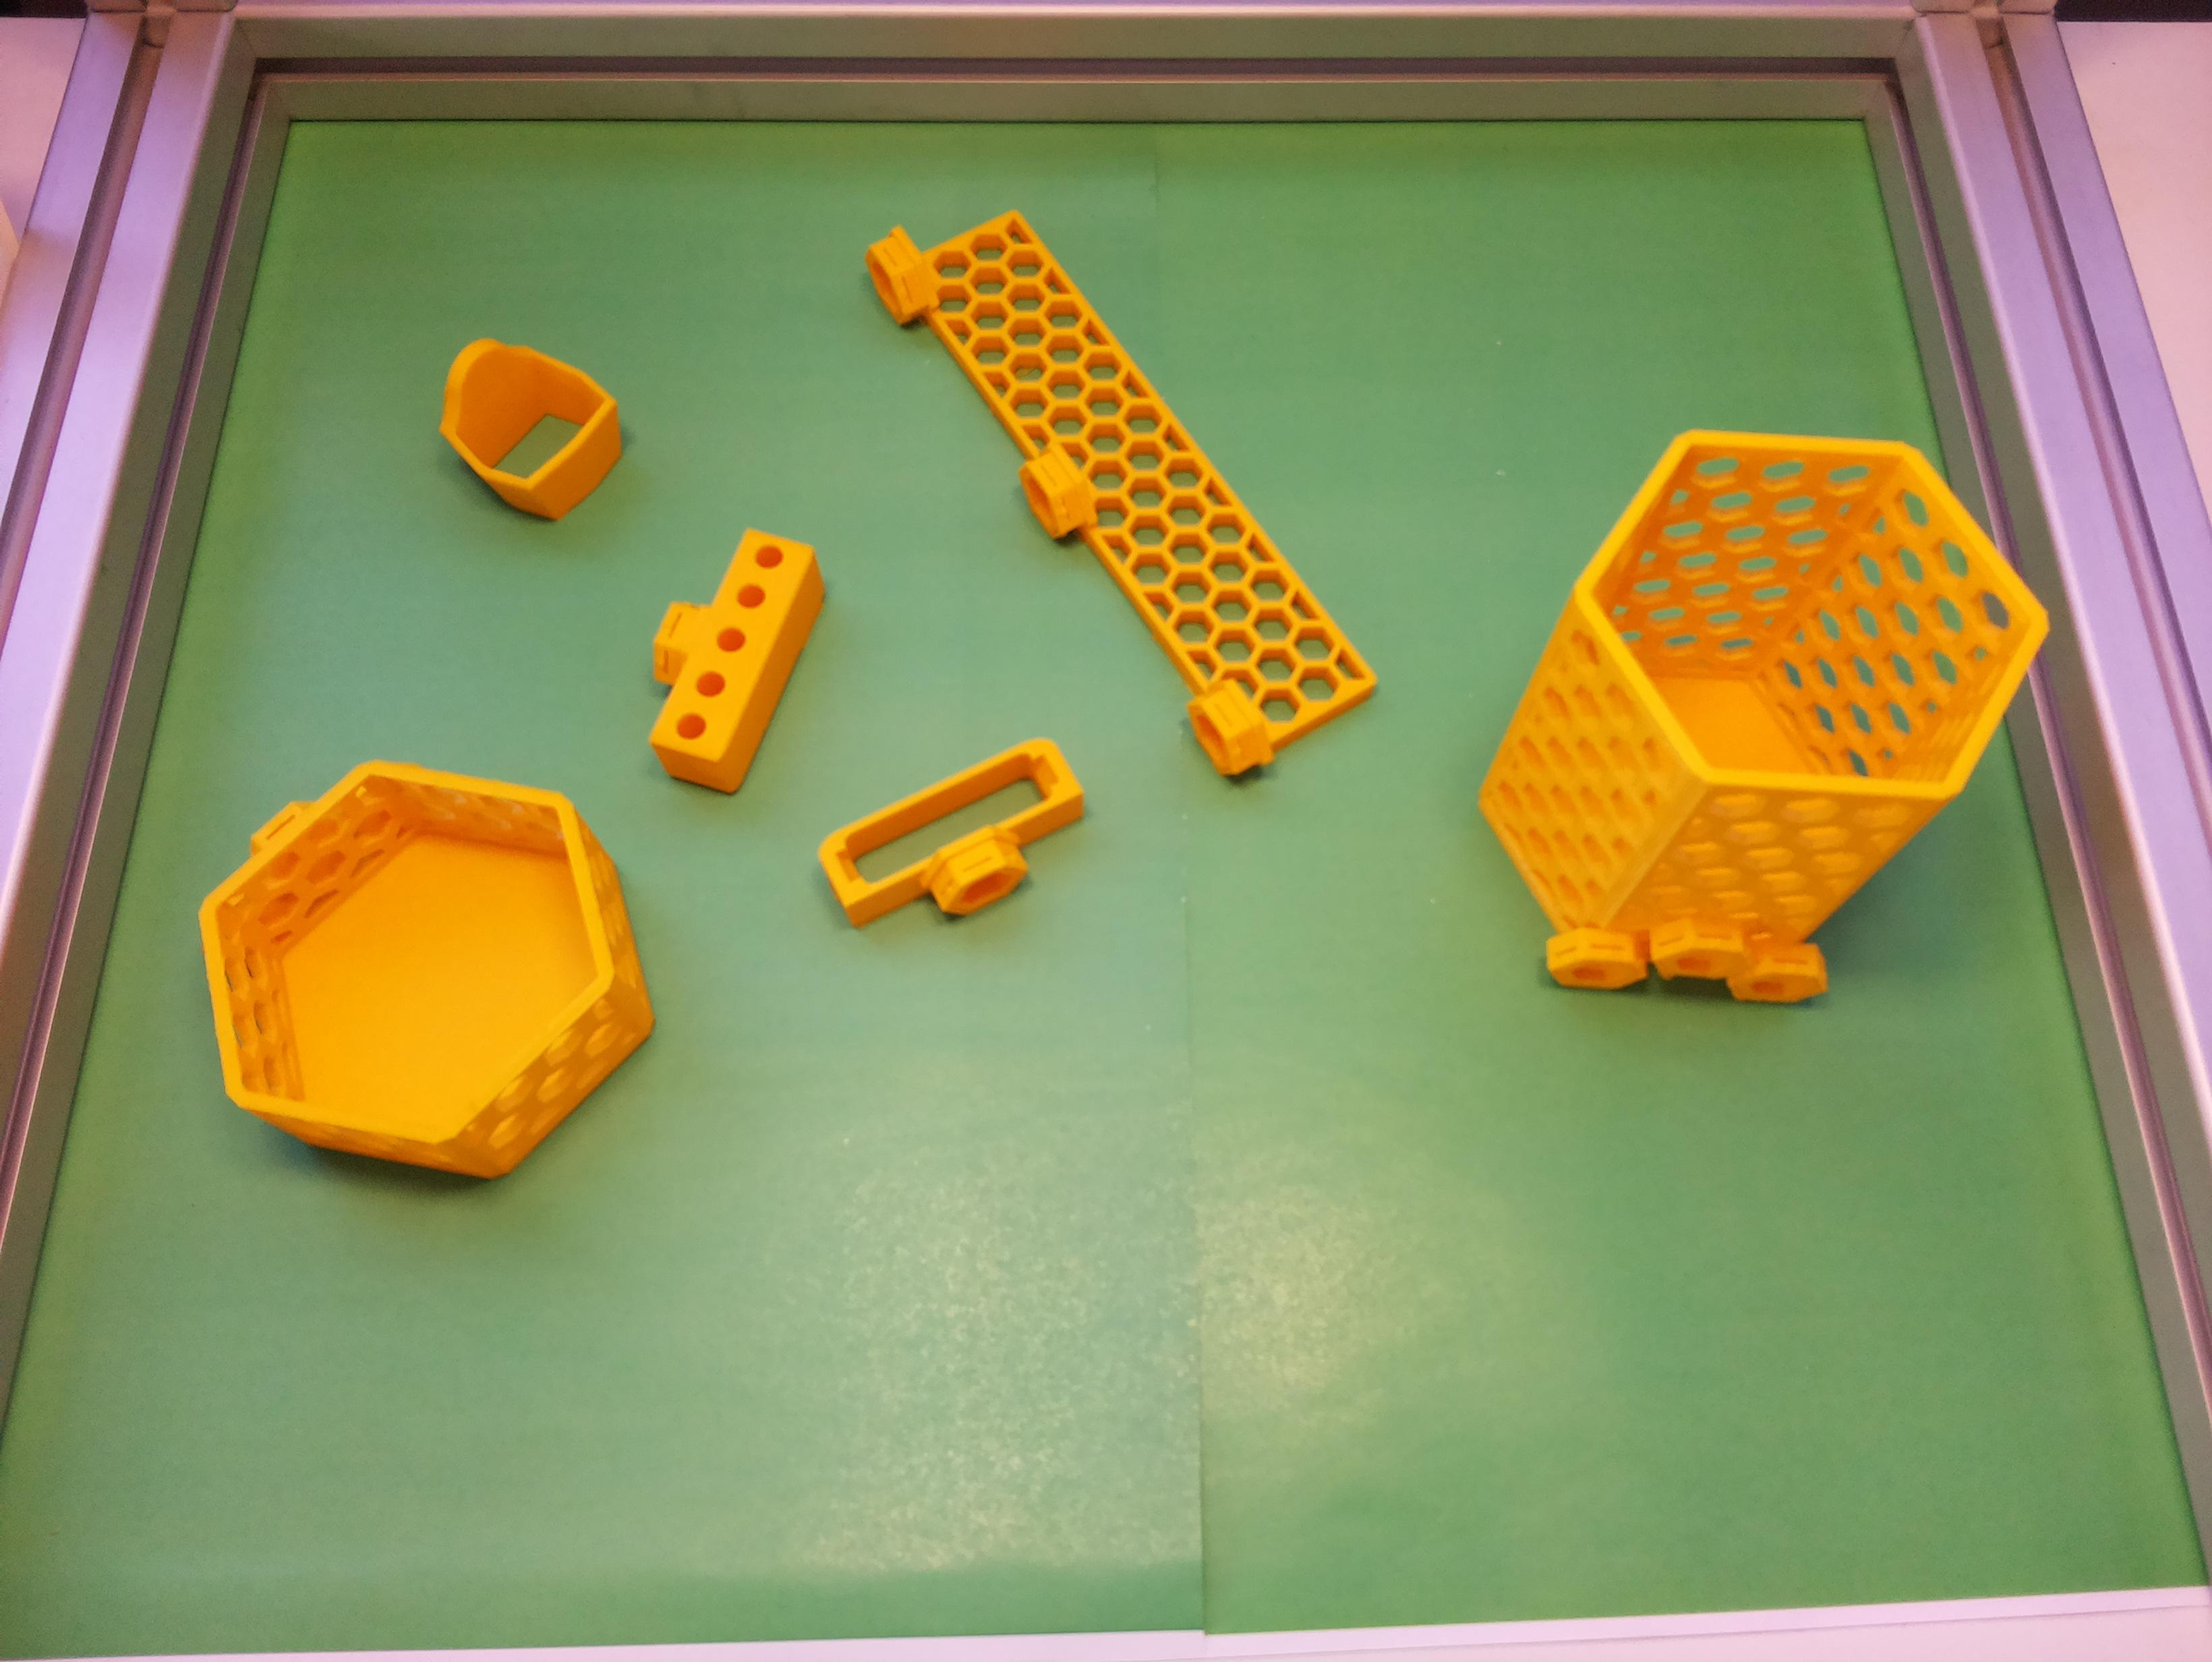bit_holder: (606, 505, 842, 803)
bottle_holder: (161, 731, 691, 1203)
cup_holder: (1383, 333, 2106, 1109)
cutter_holder: (810, 728, 1109, 960)
scissor_holder: (407, 304, 648, 539)
tool_holder: (836, 162, 1383, 796)
